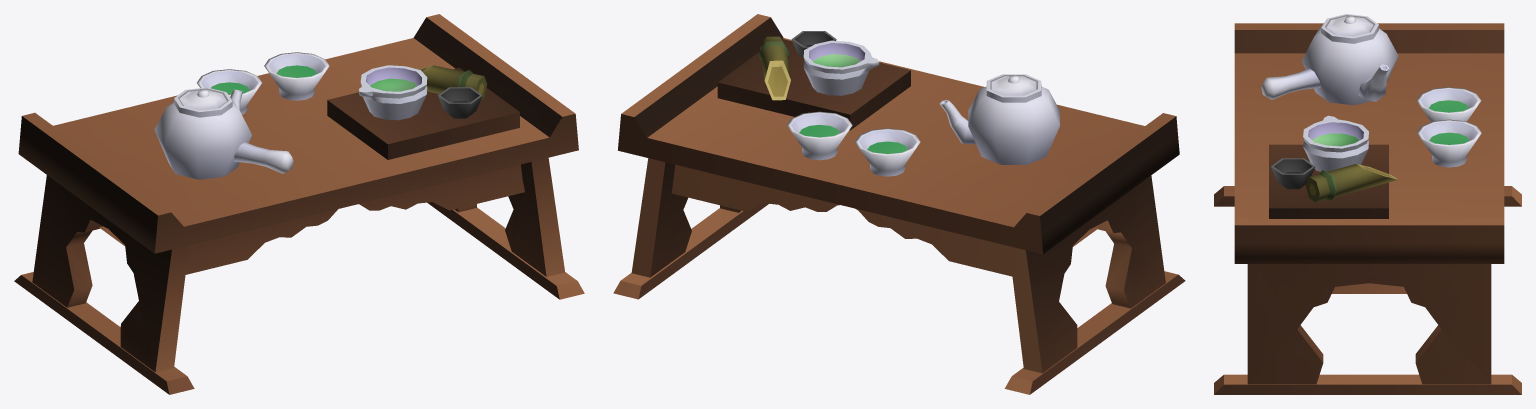
The model's file is SK_TeaTable_001.FBX.
3 renders of one model, left to right at view 1: azimuth 30°, elevation 25°; view 2: azimuth 150°, elevation 25°; view 3: azimuth 270°, elevation 25°, orthographic.
Parts seen in each view (by area): view 1: SK_TeaTable_001; view 2: SK_TeaTable_001; view 3: SK_TeaTable_001.
Part boxes in pixels (x1,y1,x2,y2): SK_TeaTable_001: [14, 14, 584, 394]; SK_TeaTable_001: [613, 14, 1185, 394]; SK_TeaTable_001: [1214, 14, 1521, 394].
Size of the model in its own units: 70.86 by 36.47 by 44.98.
Materials: 1 (1 with a texture image).
